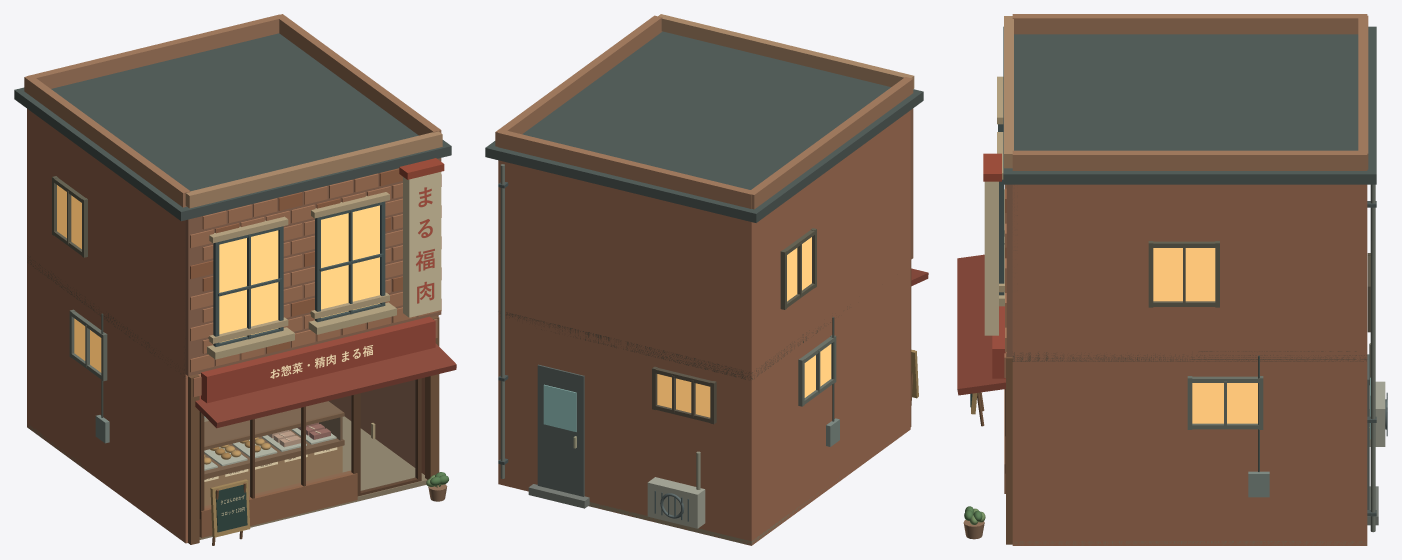
File: deli.glb
The picture shows the model from 3 angles, left to right: view 1: azimuth 30°, elevation 25°; view 2: azimuth 150°, elevation 25°; view 3: azimuth 270°, elevation 25°; orthographic projection. The views are drawn at different scales.
Visible parts, largest first — view 1: 丸福熟食肉铺, Group_284; view 2: 丸福熟食肉铺, Group_259, Group_284; view 3: 丸福熟食肉铺, Group_299, Group_259.
Boxes of the visible parts, left/top/right/bottom form: 丸福熟食肉铺: left=14, top=14, right=456, bottom=545; Group_284: left=52, top=176, right=109, bottom=443; 丸福熟食肉铺: left=485, top=14, right=928, bottom=545; Group_259: left=498, top=164, right=716, bottom=528; Group_284: left=780, top=228, right=839, bottom=446; 丸福熟食肉铺: left=957, top=14, right=1376, bottom=545; Group_299: left=1148, top=241, right=1269, bottom=497; Group_259: left=1367, top=184, right=1387, bottom=532.
Size of the model in its own units: 4.92 by 6.1 by 6.06.
Materials: 72 (12 with a texture image).
